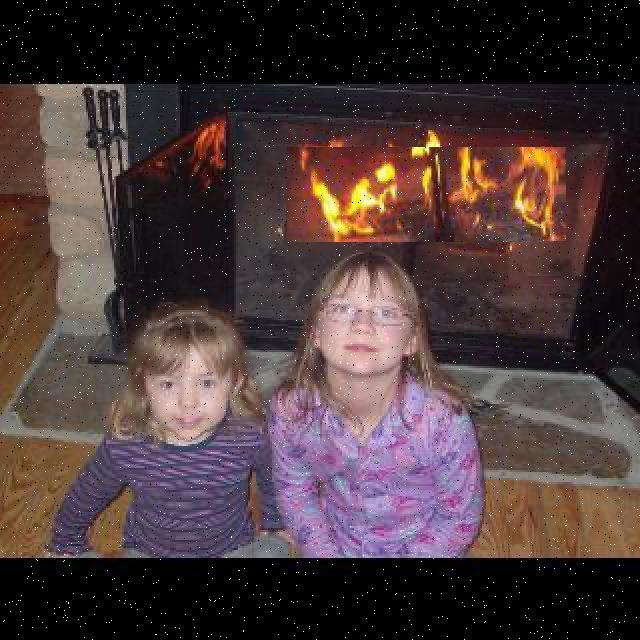fire: (287, 147, 566, 242)
